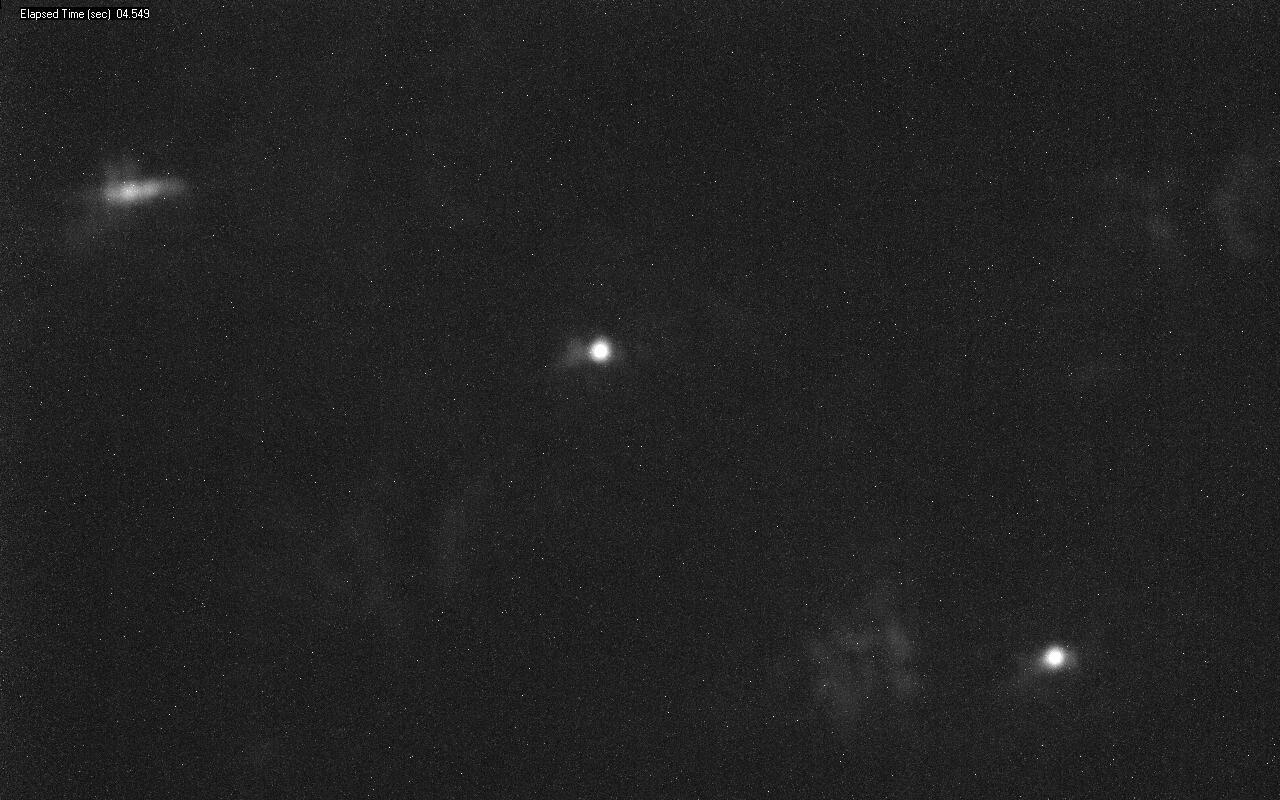Bead: (1043, 647, 1065, 668), (591, 339, 611, 362)
